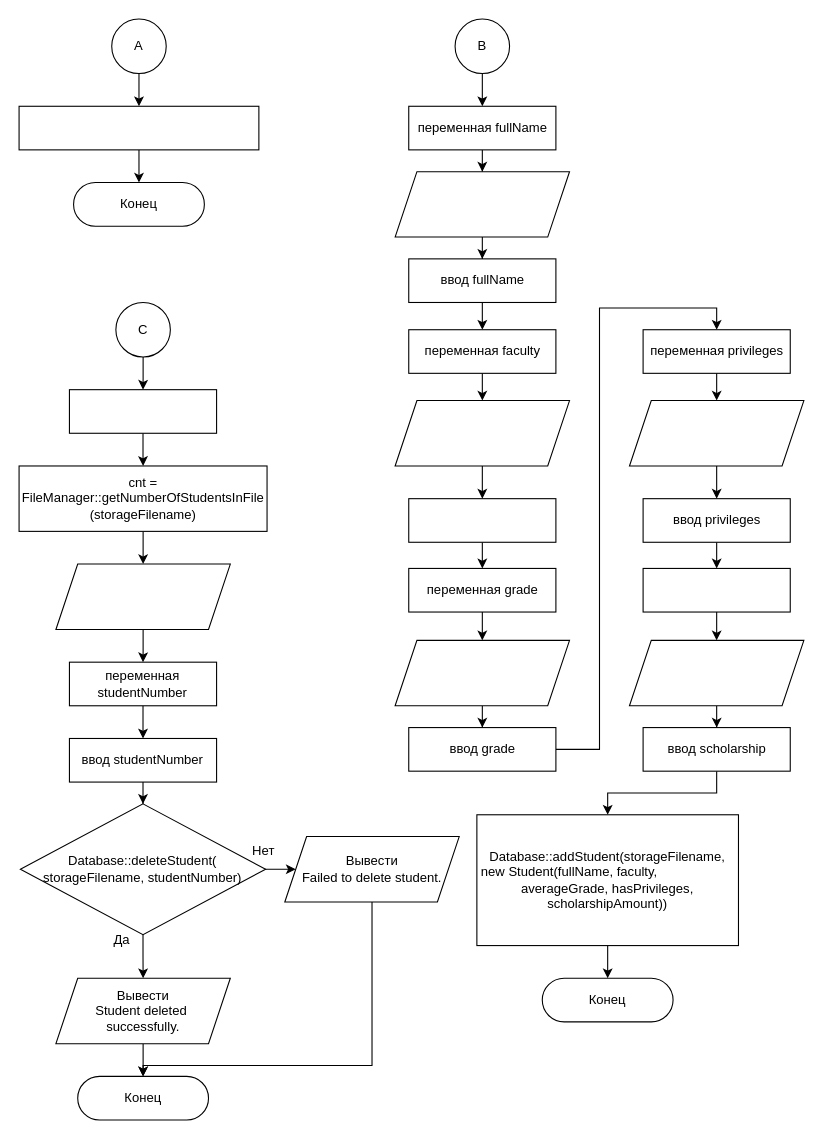
This 823x1139 diagram has some shape labels left out. Here are the shapes that lost their labels. From the top down, the centre of each, then its label:
At (138,127): "Database::displayAll(storageFilename)".
At (482,204): "Вывести Enter student's full name:".
At (142,411): "переменная cnt".
At (482,432): "Вывести Enter student's faculty:".
At (716,432): "Вывести Enter student's privileges:".
At (482,520): "ввод faculty".
At (142,596): "Вывести Enter student number to delete (1-cnt):".
At (716,589): "переменная scholarship".
At (482,672): "Вывести Enter student's grade:".
At (716,672): "Вывести Enter student's scholarship:".
